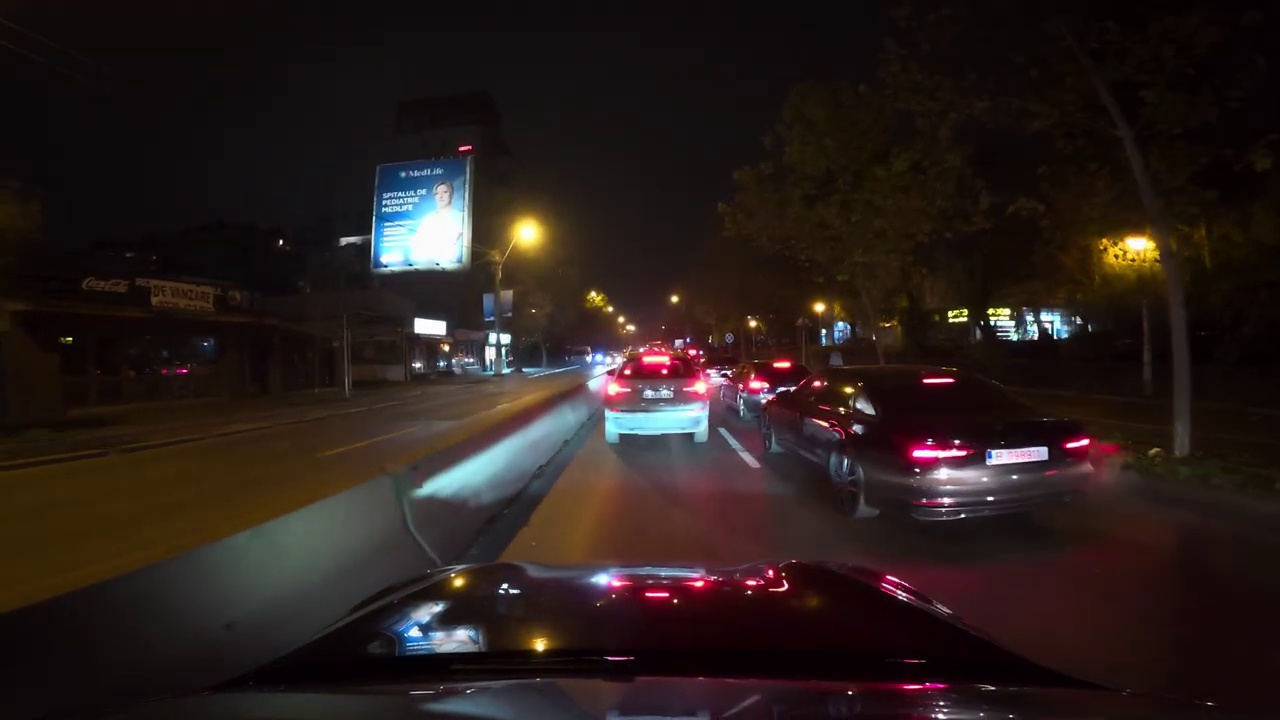acesa: (510, 217, 546, 253), (666, 290, 684, 311)
